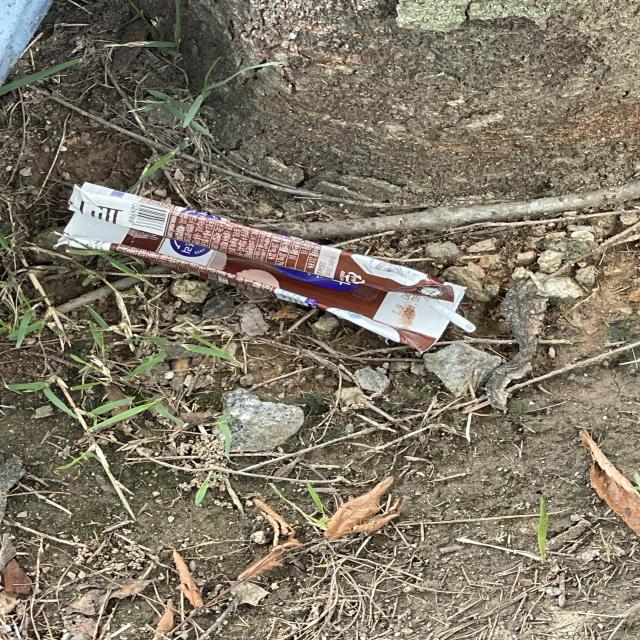litter: (54, 182, 467, 354), (421, 296, 476, 332)
